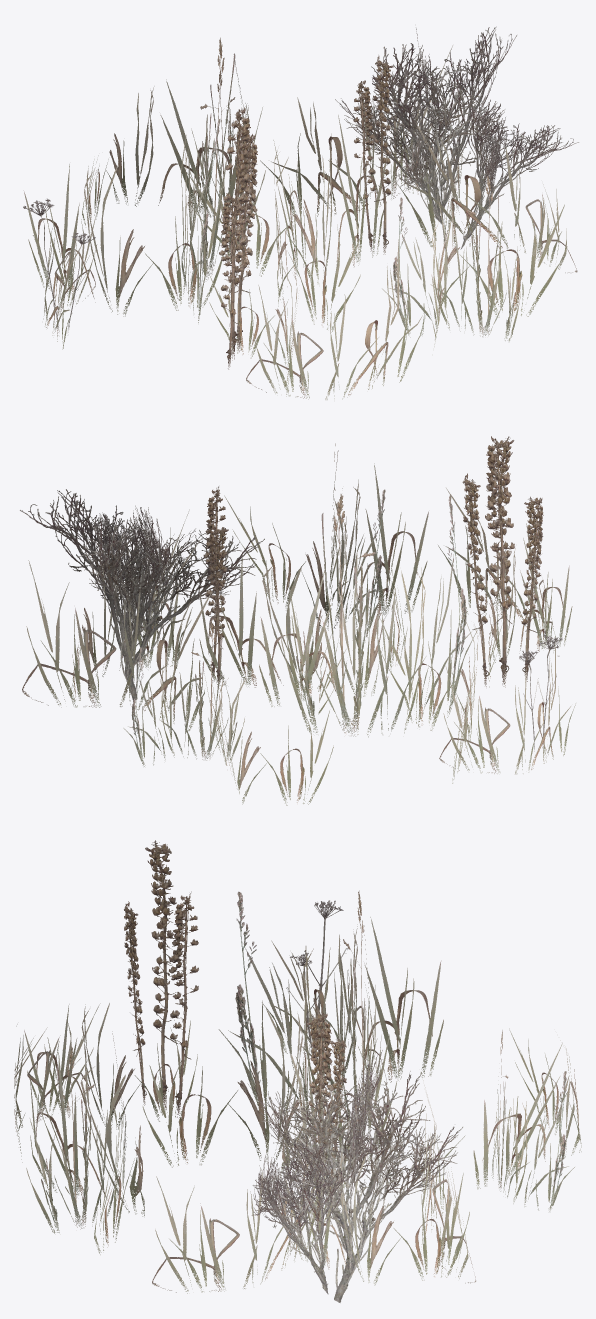
Rendered from proc_dryplantsgrass_02.FBX.
3 renders of one model, top to bottom at view 1: azimuth 30°, elevation 25°; view 2: azimuth 150°, elevation 25°; view 3: azimuth 270°, elevation 25°, orthographic. The views are drawn at different scales.
Parts seen in each view (by area): view 1: proc_dryplantsgrass_02; view 2: proc_dryplantsgrass_02; view 3: proc_dryplantsgrass_02.
Boxes of the visible parts, x1,y1,x2,y2 form: proc_dryplantsgrass_02: (23, 26, 578, 399); proc_dryplantsgrass_02: (20, 436, 575, 805); proc_dryplantsgrass_02: (14, 840, 581, 1302).
Size of the model in its own units: 1.79 by 1.52 by 0.9175.
1 material, 1 textured.
